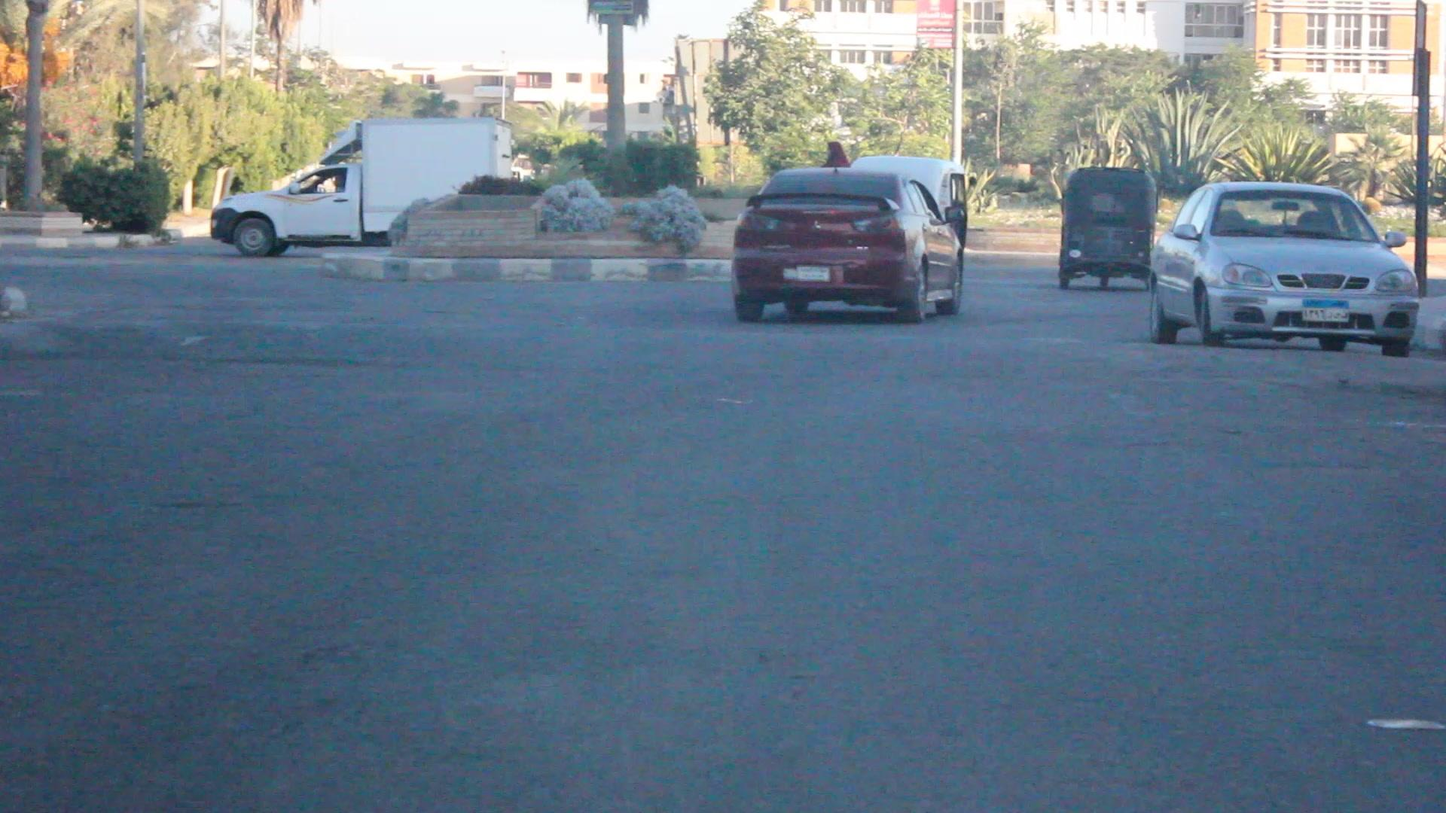Bump: (4, 297, 1446, 435)
